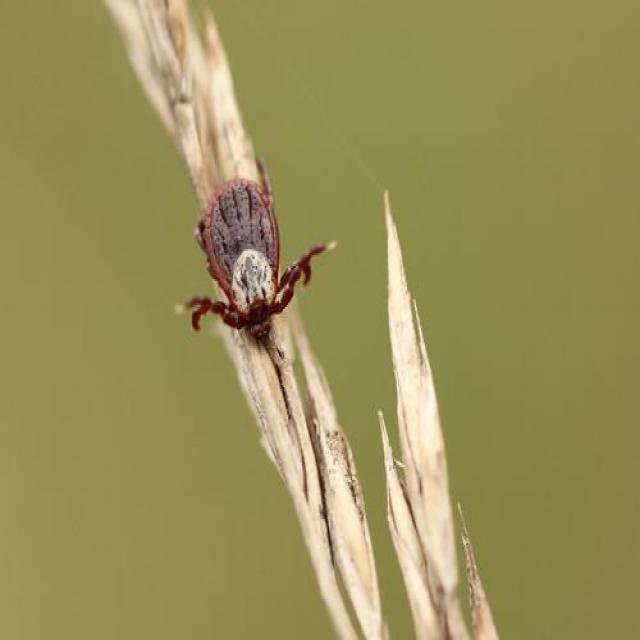Dermacentor Reticulatus-F: (183, 156, 329, 340)
